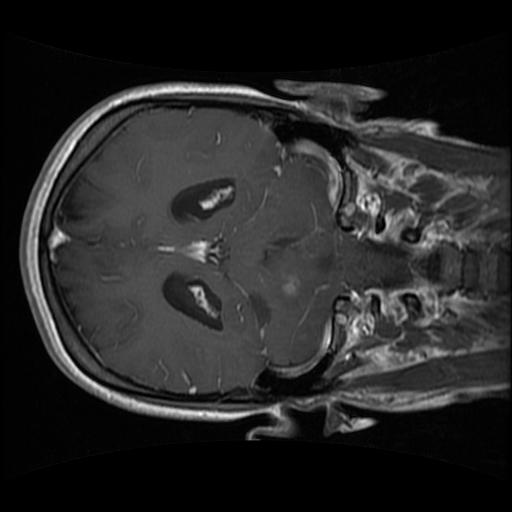glioma: (272, 271, 308, 316)
